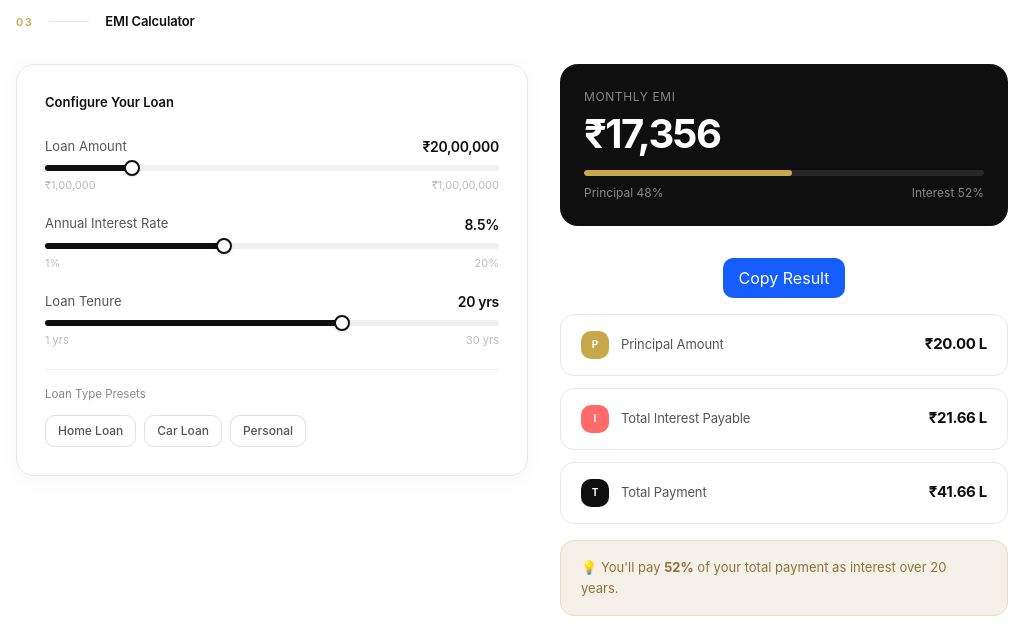
Test: EmiCalculator › updates when loan preset is clicked
The width and height of the screenshot is (1025, 633).
What coordinates should you click on to do the following:
click the button "Car Loan"
I would click on:
 (183, 431)
Its box is [144,415,222,447].
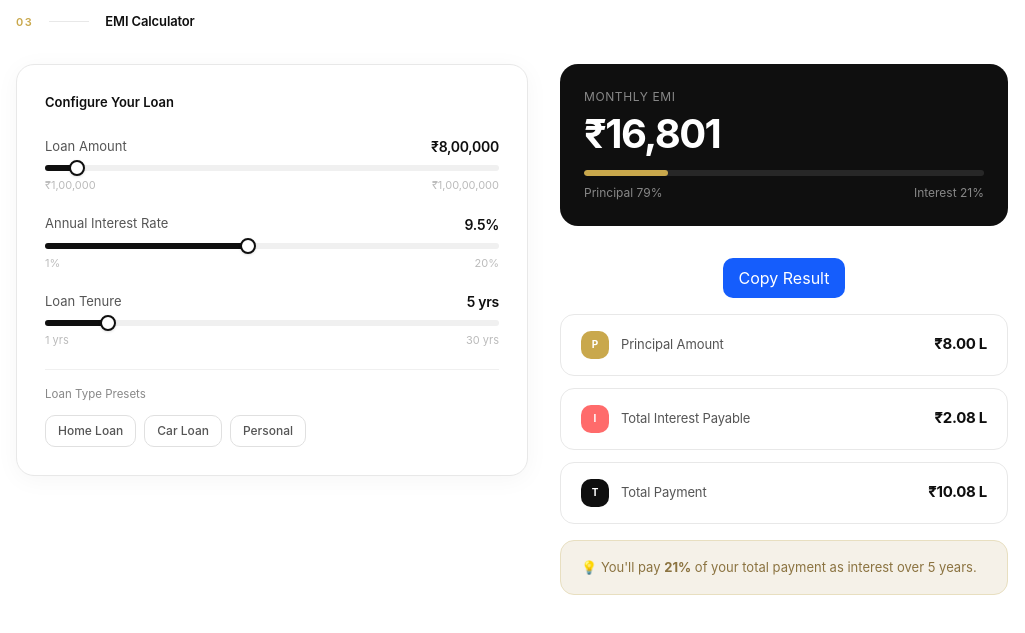
Result: the text "₹16,801" is shown at [584,108,720,158]
